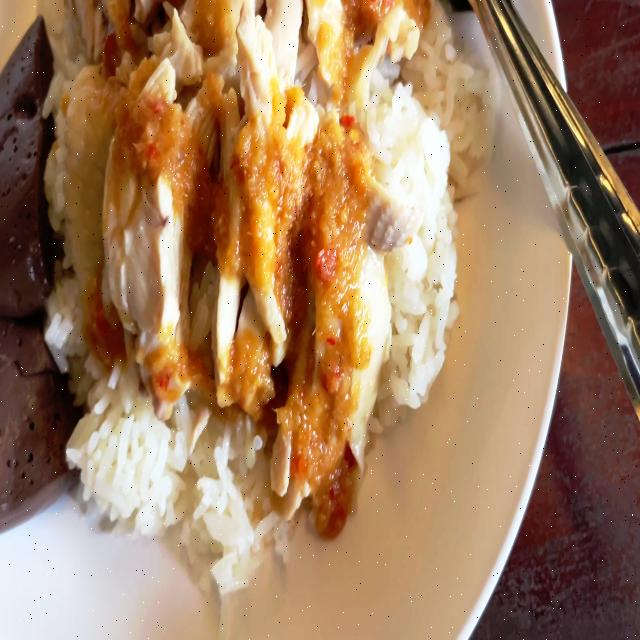boiled_chicken: (82, 0, 410, 504)
boiled_chicken_blood_jelly: (0, 14, 54, 308), (0, 292, 74, 494)
chicken_rice: (0, 0, 505, 617)
